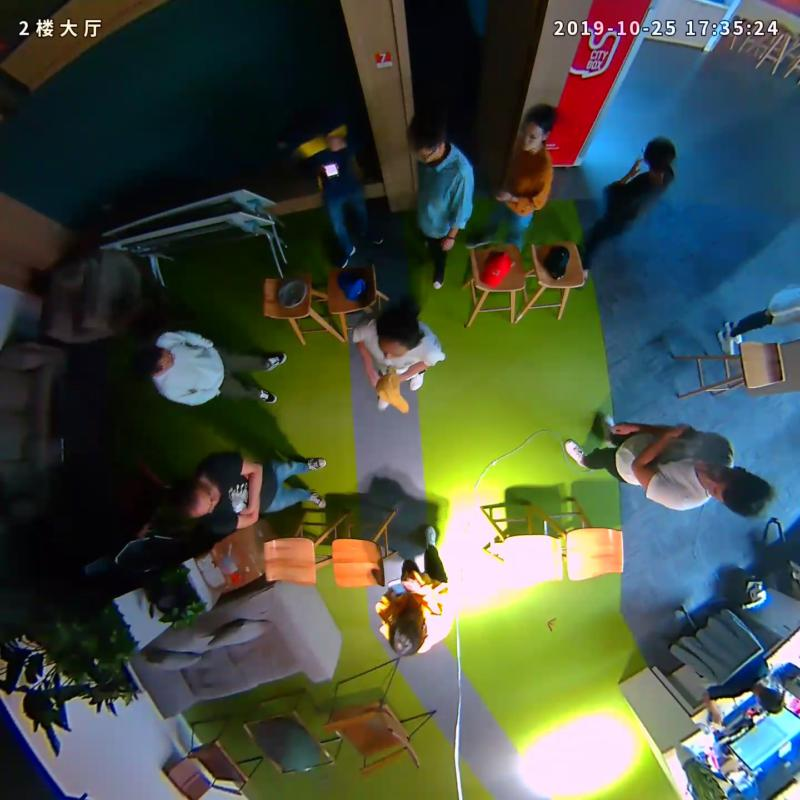head: (697, 462, 774, 518), (375, 302, 422, 361), (168, 472, 222, 518), (408, 109, 448, 163), (389, 599, 425, 656), (520, 103, 556, 152), (128, 346, 176, 380), (639, 137, 676, 170)
